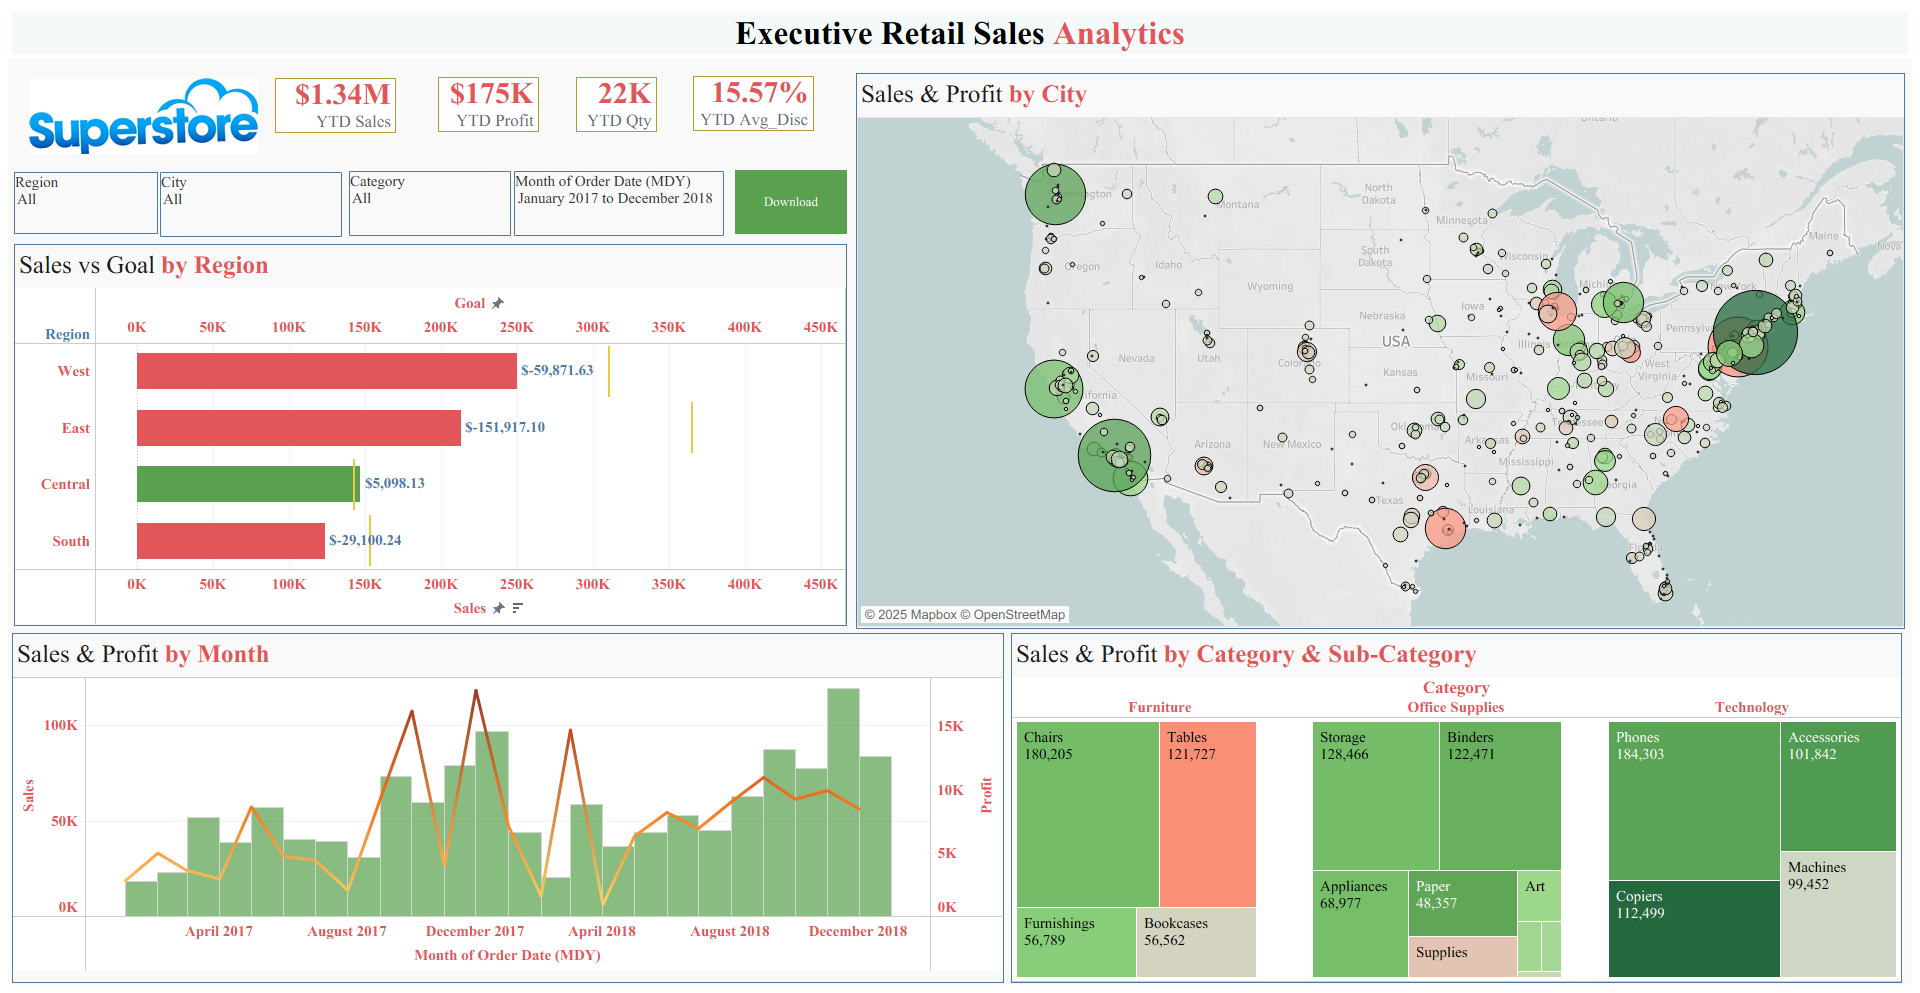

The page's visual inventory and layout, read from the dashboard file:
{"tool":"tableau","page":{"name":"Dashboard","canvas":[1000,1000],"units":"permille","ordinal":0},"visuals":[{"type":"title","box":[4.8,10,990.3,62.4]},{"type":"worksheet","title":"Discount","mark":"Automatic","box":[360.9,61.2,81.5,101.1]},{"type":"worksheet","title":"Profit","mark":"Automatic","box":[228.1,62.4,62.8,91.1]},{"type":"worksheet","title":"Quantity","mark":"Automatic","box":[299.9,62.4,62.8,98.6]},{"type":"worksheet","title":"Sales","mark":"Automatic","box":[143,63.7,75.4,101.1]},{"type":"worksheet","title":"City_wise","mark":"Automatic","box":[446,73.7,546.2,559.3]},{"type":"image","param":"Image/superstore.jpg","box":[7.2,78.7,135.2,76.2]},{"type":"dashboard-object","box":[382.6,171,58.5,64.9]},{"type":"filter","title":"Tree_Map","param":"[federated.1f22b5c0wxcofl1f5gr9v0yenl70].[none:Category:nk]","box":[181.7,172.3,84.5,64.9]},{"type":"filter","title":"Time_series","param":"[federated.1f22b5c0wxcofl1f5gr9v0yenl70].[tmn:Order Date (MDY):qk]","box":[267.9,172.3,109.2,64.9]},{"type":"filter","title":"Target_vs_Achieved","param":"[federated.1f22b5c0wxcofl1f5gr9v0yenl70].[none:Region:nk]","box":[7.2,173.5,74.8,62.4]},{"type":"filter","title":"City_wise","param":"[federated.1f22b5c0wxcofl1f5gr9v0yenl70].[none:City:nk]","box":[83.3,173.5,94.8,64.9]},{"type":"worksheet","title":"Target_vs_Achieved","mark":"Automatic","rows":["Region"],"cols":["Sales","Goal"],"box":[7.2,245.9,433.9,384.5]},{"type":"worksheet","title":"Time_series","mark":"Automatic","rows":["Sales","Profit"],"cols":["Order Date (MDY)"],"box":[6,638,516.8,352.1]},{"type":"worksheet","title":"Tree_Map","mark":"Automatic","cols":["Category"],"box":[526.4,638,464,352.1]}]}

Visuals, with their boxes on the dashboard's canvas, which has no fixed pixel size, in thousandths of its width and height (x1, y1, x2, y2). These are canvas units, not pixel positions in the 1920x993 screenshot, which may show the page scaled, cropped or inside an application window:
title: <bbox>5, 10, 995, 72</bbox>
"Discount" worksheet: <bbox>361, 61, 442, 162</bbox>
"Profit" worksheet: <bbox>228, 62, 291, 154</bbox>
"Quantity" worksheet: <bbox>300, 62, 363, 161</bbox>
"Sales" worksheet: <bbox>143, 64, 218, 165</bbox>
"City_wise" worksheet: <bbox>446, 74, 992, 633</bbox>
image: <bbox>7, 79, 142, 155</bbox>
dashboard-object: <bbox>383, 171, 441, 236</bbox>
"Tree_Map" filter: <bbox>182, 172, 266, 237</bbox>
"Time_series" filter: <bbox>268, 172, 377, 237</bbox>
"Target_vs_Achieved" filter: <bbox>7, 174, 82, 236</bbox>
"City_wise" filter: <bbox>83, 174, 178, 238</bbox>
"Target_vs_Achieved" worksheet: <bbox>7, 246, 441, 630</bbox>
"Time_series" worksheet: <bbox>6, 638, 523, 990</bbox>
"Tree_Map" worksheet: <bbox>526, 638, 990, 990</bbox>
